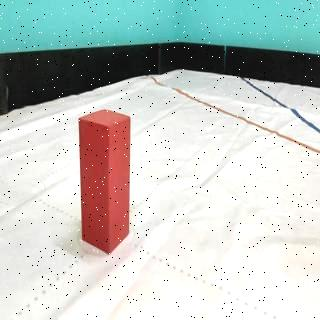redbox: (77, 109, 131, 255)
